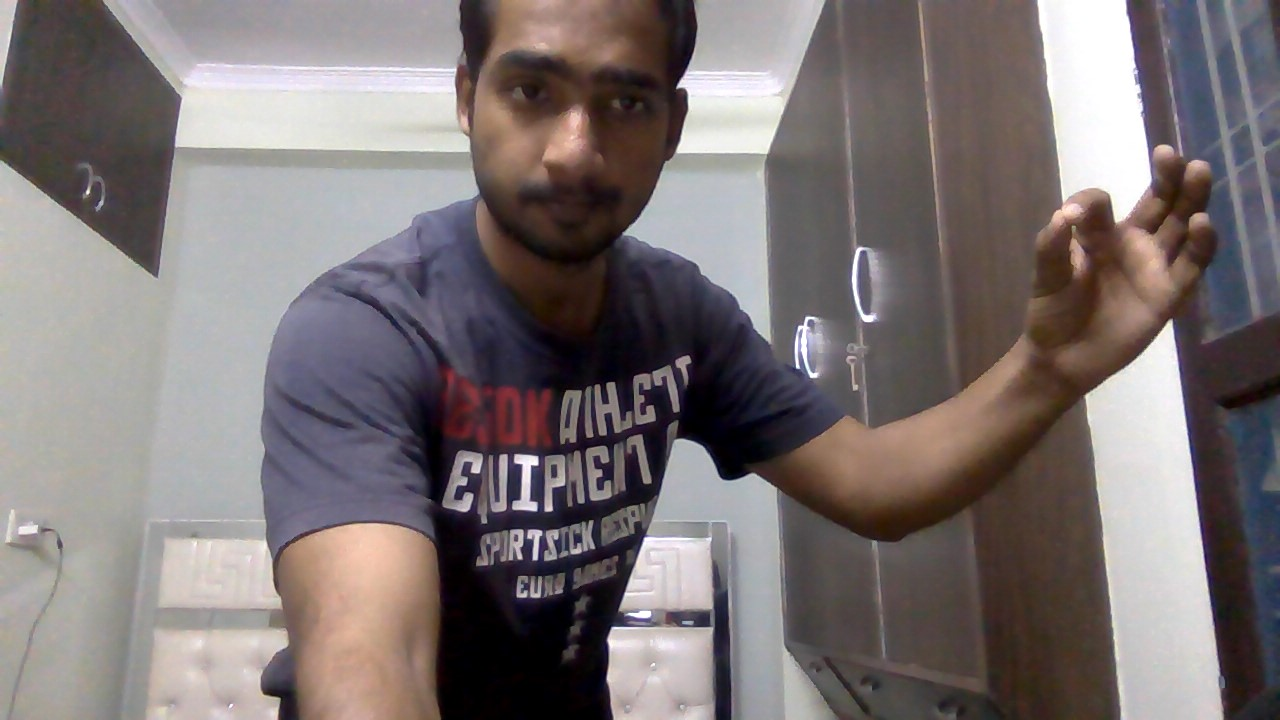Copy: (1013, 135, 1229, 403)
